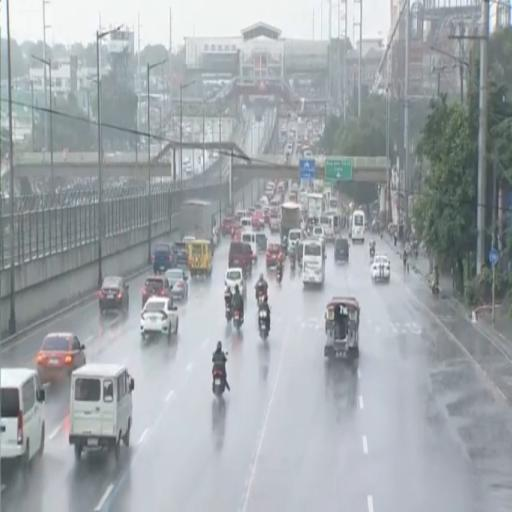bus: (302, 239, 325, 286), (350, 210, 366, 243)
car: (69, 364, 134, 460), (0, 368, 44, 468), (37, 333, 85, 383), (140, 297, 178, 338), (99, 277, 128, 313), (142, 276, 170, 307), (228, 242, 253, 275), (165, 269, 188, 299), (152, 244, 173, 274), (225, 267, 245, 295), (371, 254, 390, 281), (173, 243, 188, 266), (266, 244, 281, 267), (221, 217, 235, 235), (256, 232, 268, 253), (270, 217, 280, 233), (312, 227, 324, 239), (183, 235, 196, 244)
motorcycle: (212, 366, 226, 398), (259, 309, 268, 340), (225, 296, 232, 323), (276, 261, 284, 284), (233, 310, 242, 330), (290, 248, 296, 270), (432, 284, 439, 299), (412, 241, 418, 258), (258, 291, 265, 305), (370, 246, 375, 259)
tricycle: (325, 297, 360, 359)
truck: (179, 200, 213, 239), (280, 202, 301, 242), (307, 194, 323, 223)
